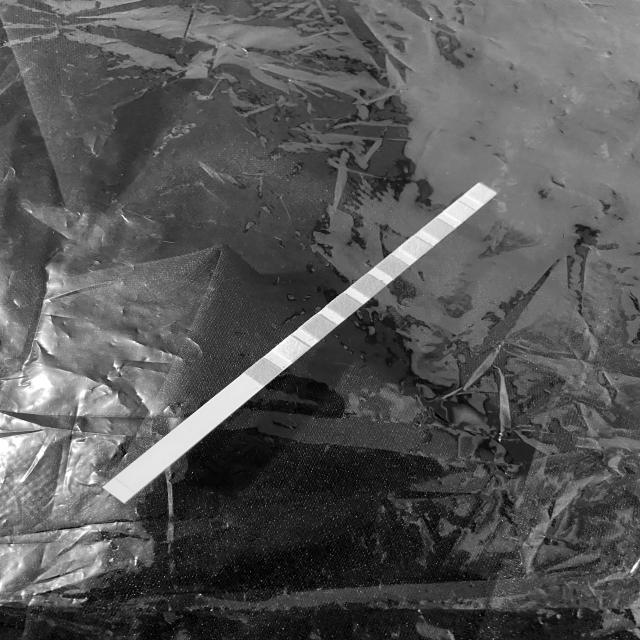Bilirubin: (281, 343, 302, 356)
Blood: (360, 280, 380, 292)
Glucose: (253, 365, 274, 379)
Ketone: (308, 321, 328, 334)
Leukocytes: (473, 189, 491, 199)
Nitrite: (451, 206, 469, 216)
Protein: (406, 242, 425, 253)
SpGravity: (334, 300, 354, 312)
Urobilinogen: (428, 223, 446, 234)
background: (0, 0, 640, 640)
pH: (383, 260, 401, 272)
strip: (103, 181, 499, 503)
